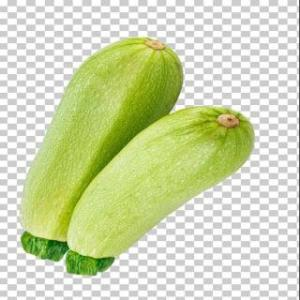zucchini: (66, 95, 262, 282)
